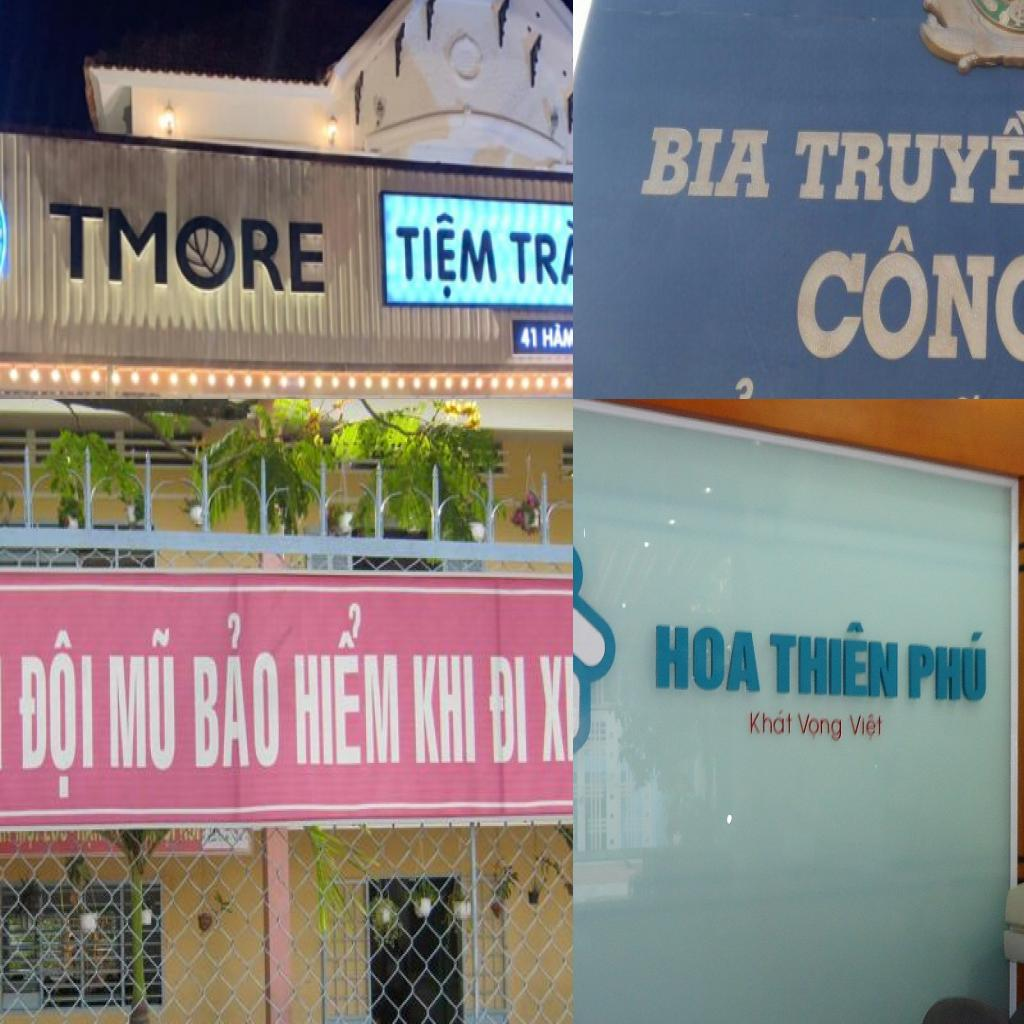text: (787, 223, 1024, 365), (46, 199, 328, 299), (788, 106, 1024, 211), (291, 602, 403, 768), (187, 611, 281, 775), (18, 626, 97, 800), (636, 121, 774, 200), (765, 622, 901, 701), (106, 625, 178, 773), (388, 211, 504, 301), (654, 617, 764, 696), (410, 650, 478, 768), (906, 624, 987, 703), (507, 219, 573, 294), (489, 652, 530, 766), (536, 650, 573, 766), (796, 709, 843, 744), (748, 709, 794, 735), (848, 712, 884, 740), (540, 325, 573, 354), (519, 327, 541, 352)
